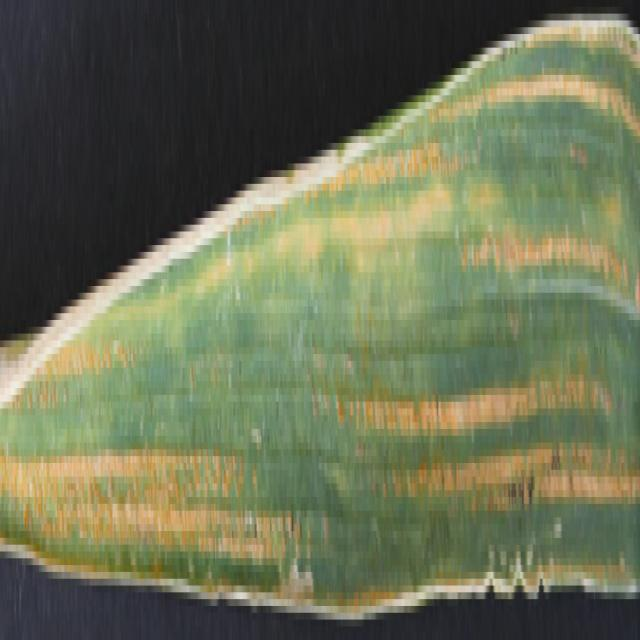leaf rust: (335, 7, 640, 579), (0, 334, 304, 606)
